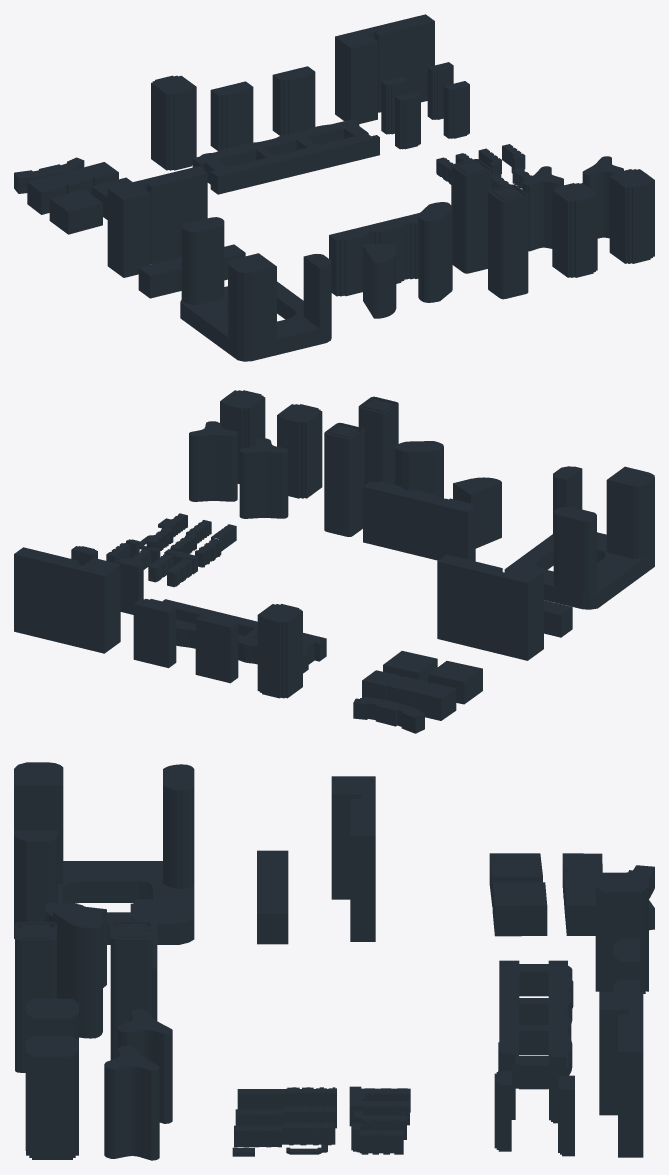
3 renders of one model, top to bottom at view 1: azimuth 30°, elevation 25°; view 2: azimuth 150°, elevation 25°; view 3: azimuth 270°, elevation 25°, orthographic. The views are drawn at different scales.
Visible parts, largest first — view 1: 1006??; view 2: 1006??; view 3: 1006??.
Boxes of the visible parts, x1=… form: 1006??: x1=14, y1=14, x2=654, y2=361; 1006??: x1=14, y1=390, x2=654, y2=733; 1006??: x1=14, y1=762, x2=654, y2=1160.
Size of the model in its own units: 433 by 95.97 by 420.
Materials: 1 (1 with a texture image).
